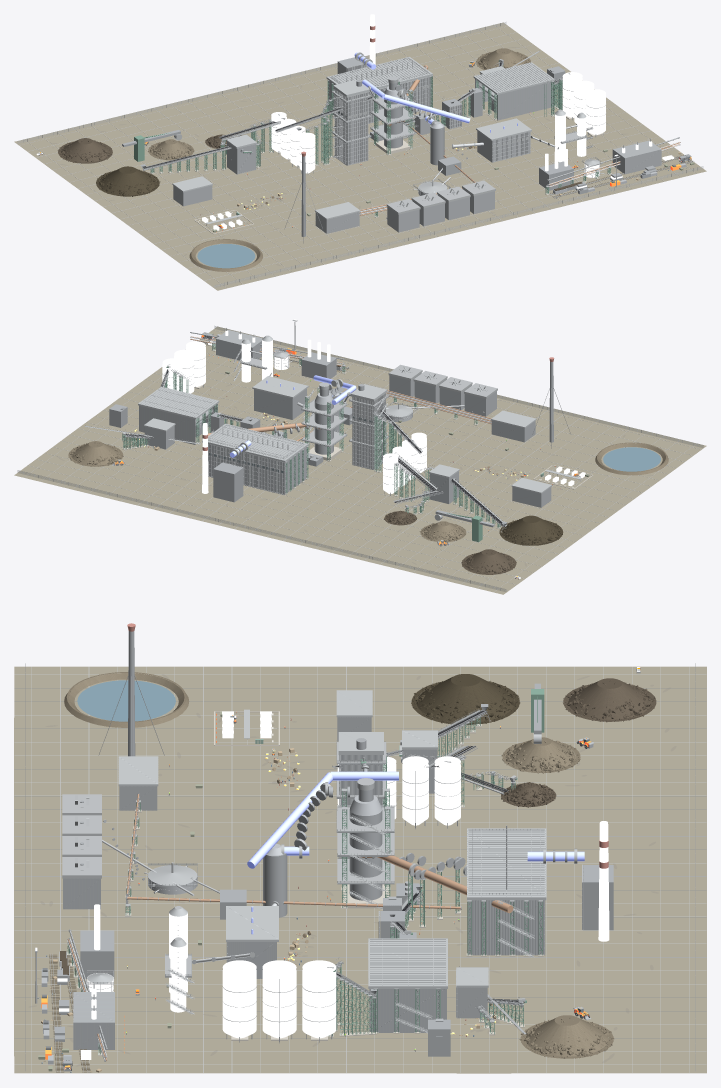
Rendered from driplant.glb.
3 renders of one model, top to bottom at view 1: azimuth 30°, elevation 25°; view 2: azimuth 150°, elevation 25°; view 3: azimuth 270°, elevation 25°, orthographic. The views are drawn at different scales.
Visible parts, largest first — view 1: structure/mat_8b8166_55, structure/seam, structure/clad, galv/galv, structure/steelD, structure/roof, structure/silo, structure/green, fence/mesh, structure/waste, structure/oreRich, structure/ore (+8 smaller); view 2: structure/mat_8b8166_55, structure/seam, structure/clad, galv/galv, structure/roof, structure/steelD, structure/silo, structure/green, fence/mesh, structure/waste, structure/oreRich, structure/ore (+8 smaller); view 3: structure/mat_8b8166_55, structure/seam, structure/roof, structure/clad, galv/galv, structure/silo, structure/steelD, structure/waste, structure/green, structure/ore, structure/oreRich, structure/water (+11 smaller).
Part boxes in pixels (x1,y1,x2,y2): structure/mat_8b8166_55: (14, 22, 706, 290); structure/seam: (19, 25, 696, 287); structure/clad: (173, 73, 661, 233); galv/galv: (143, 51, 694, 243); structure/steelD: (140, 55, 680, 236); structure/roof: (172, 57, 554, 224); structure/silo: (271, 72, 674, 188); structure/green: (150, 60, 611, 216); fence/mesh: (17, 22, 703, 287); structure/waste: (148, 48, 692, 271); structure/oreRich: (96, 166, 159, 196); structure/ore: (58, 134, 582, 190); structure/mat_8b8166_55: (14, 326, 706, 594); structure/seam: (21, 330, 701, 591); structure/clad: (139, 330, 551, 507); galv/galv: (85, 321, 580, 525); structure/roof: (138, 376, 581, 493); structure/steelD: (109, 320, 553, 531); structure/silo: (162, 330, 426, 493); structure/green: (122, 343, 500, 528); fence/mesh: (17, 326, 703, 591); structure/waste: (68, 337, 668, 541); structure/oreRich: (499, 515, 563, 545); structure/ore: (336, 365, 516, 574); structure/mat_8b8166_55: (14, 666, 706, 1073); structure/seam: (14, 666, 706, 1072); structure/roof: (118, 690, 546, 988); structure/clad: (63, 717, 544, 1049); galv/galv: (35, 675, 583, 1072); structure/silo: (57, 756, 460, 1059); structure/steelD: (35, 631, 613, 1061); structure/waste: (49, 672, 613, 1072); structure/green: (67, 717, 542, 1054); structure/ore: (60, 678, 656, 975); structure/oreRich: (411, 674, 519, 724); structure/water: (77, 680, 175, 721).
Size of the model in its own units: 508 by 82.53 by 365.
56 materials, 14 textured.
